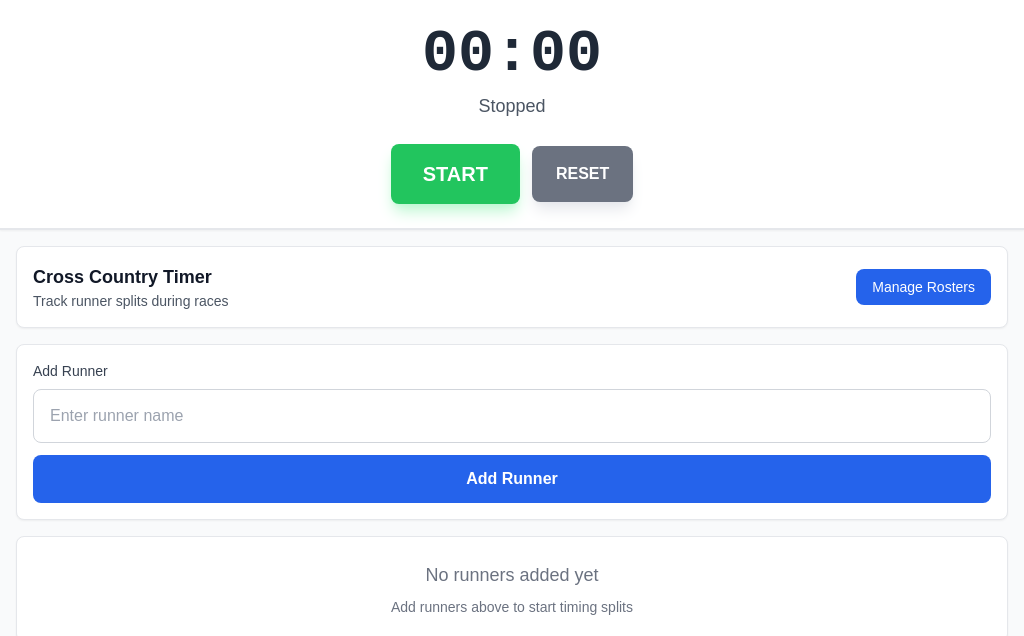
Final Mobile Testing and Optimization › Real-world Mobile Usage Scenarios › handles rapid task switching scenarios
Add runner
Step 1. Type "Quick Runner" into the field with placeholder "Enter runner name" → x=512, y=416, box [33, 389, 991, 443]
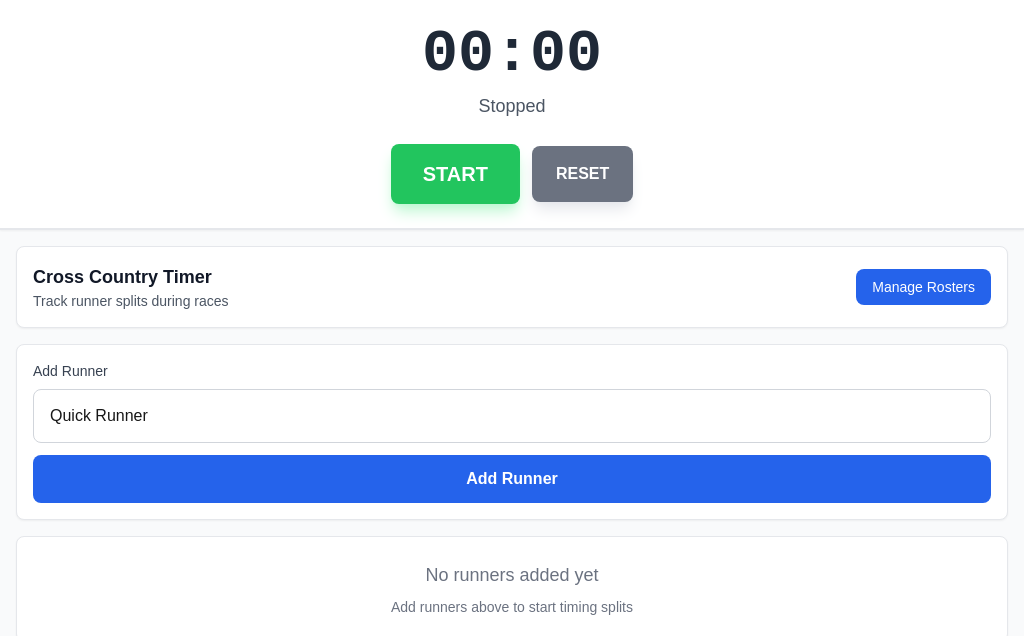
Step 2. Click the button "Add Runner" → x=512, y=479, box [33, 455, 991, 503]
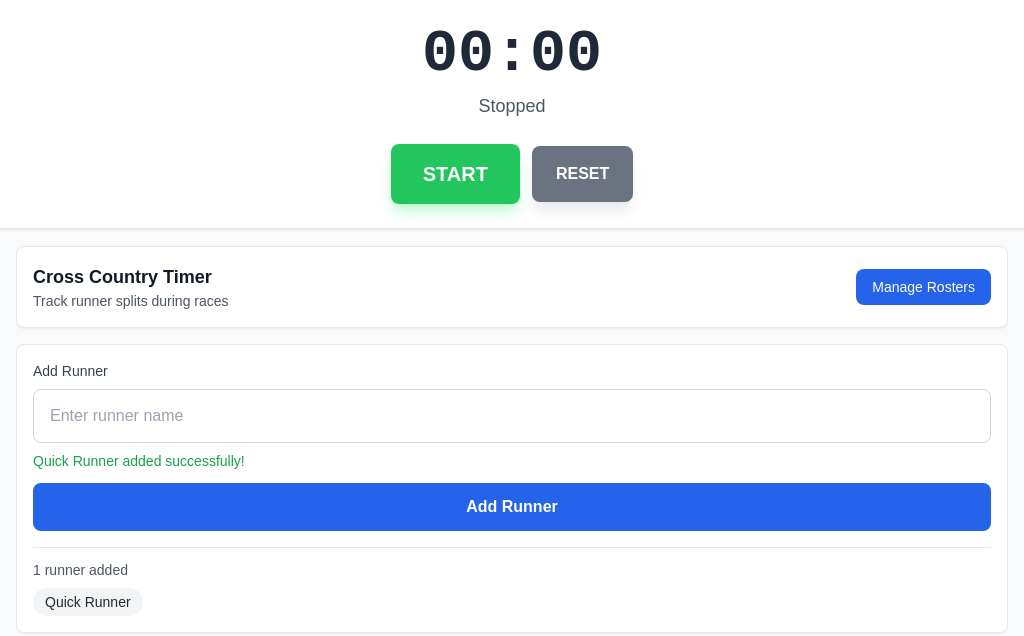
Start timer immediately
Step 3. Click the button with aria-label "start timer" → x=455, y=174, box [391, 144, 520, 204]
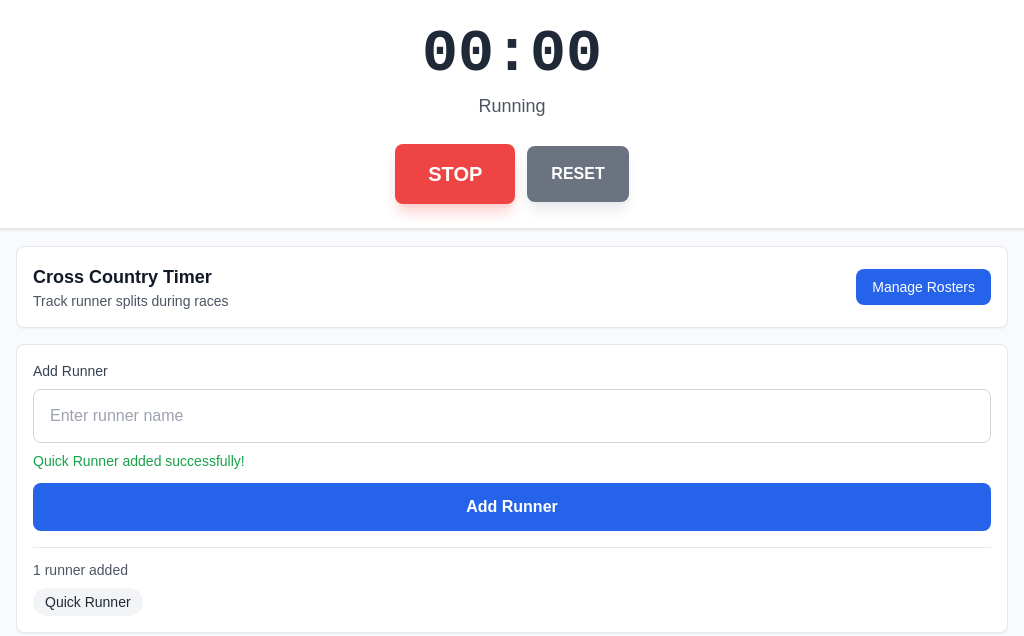
Add another runner while timer is running
Step 4. Type "Late Runner" into the field with placeholder "Enter runner name" → x=512, y=416, box [33, 389, 991, 443]
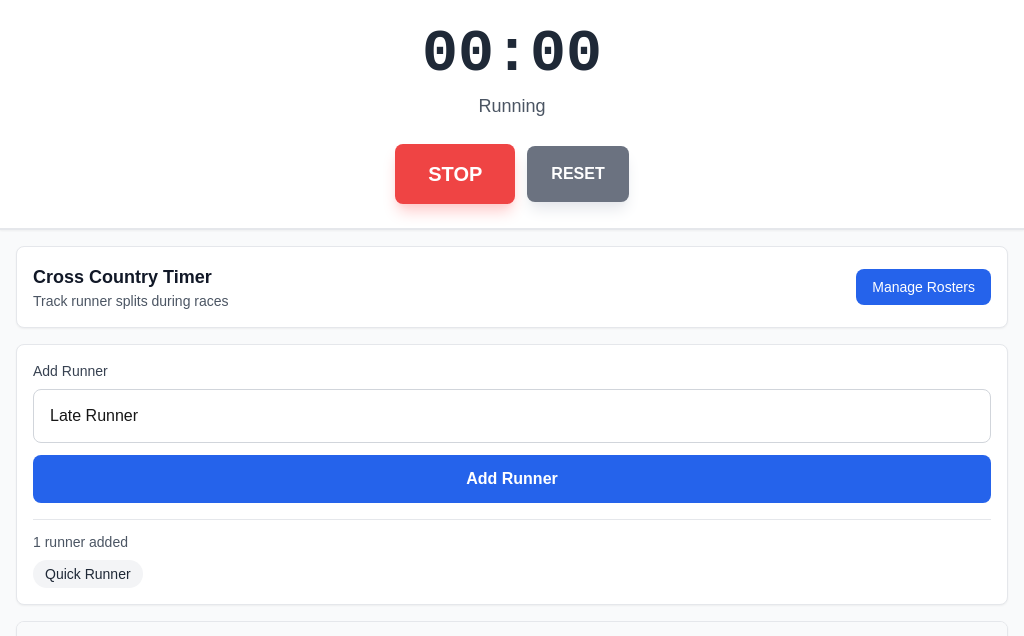
Step 5. Click the button "Add Runner" → x=512, y=479, box [33, 455, 991, 503]
(page scrolled)
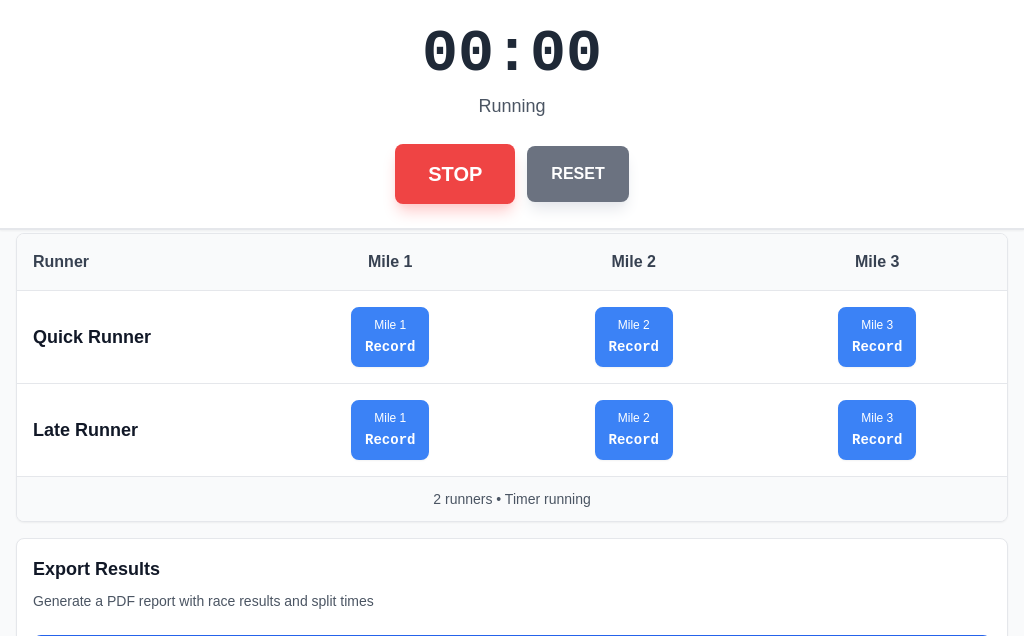
Now the text "2 runners • Timer running" is shown, box [433, 491, 591, 507]
